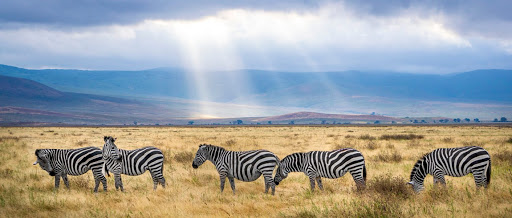zebra: (187, 138, 281, 203), (406, 144, 496, 202), (272, 146, 369, 199), (100, 134, 173, 196), (30, 147, 108, 193)
